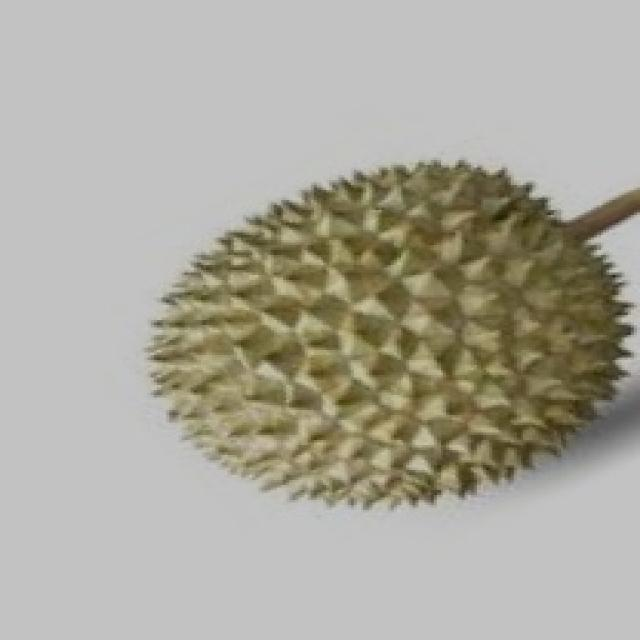fruit: (274, 155, 640, 583), (98, 175, 450, 585)
